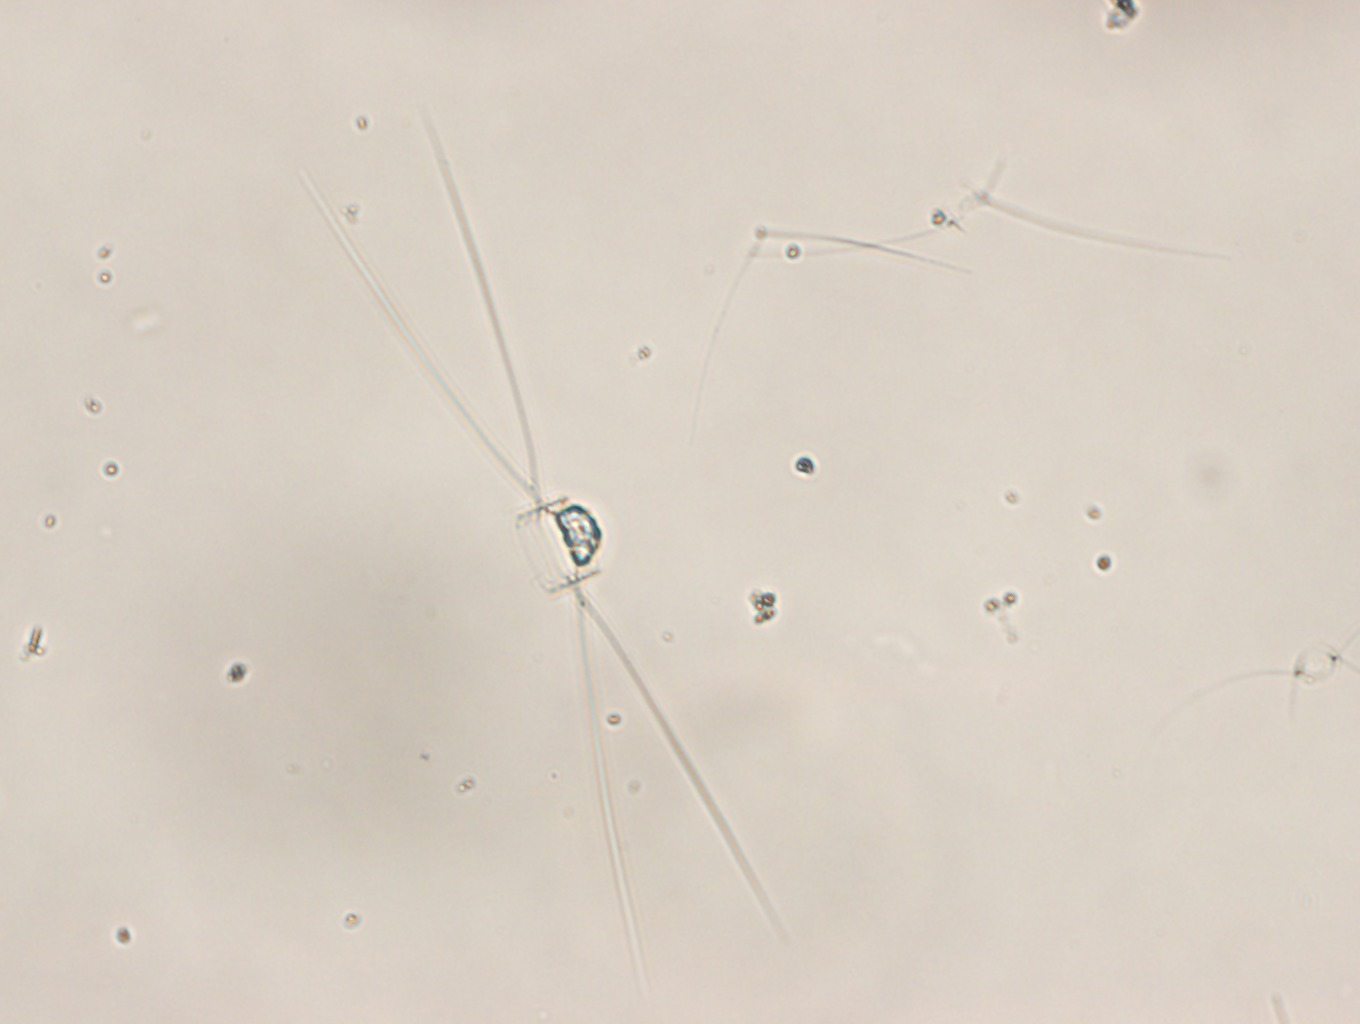chaetoceros: (307, 110, 786, 958)
